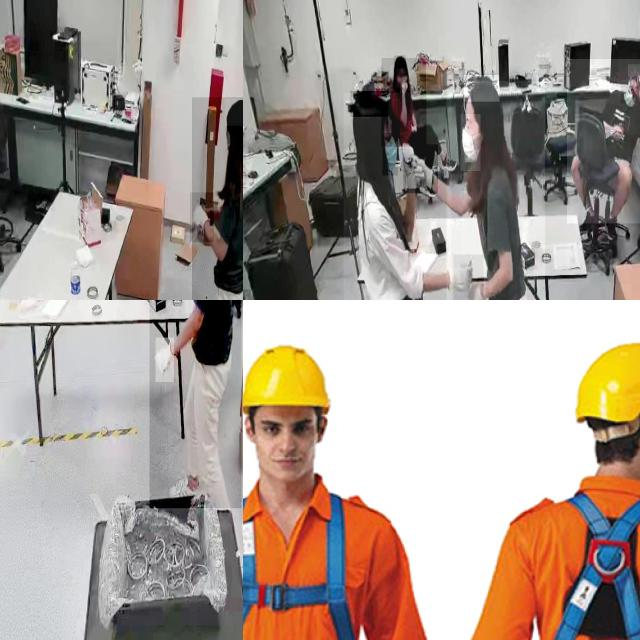Harness: (243, 492, 364, 640), (536, 491, 640, 640)
face_mask: (460, 114, 480, 171), (382, 133, 398, 175), (620, 85, 638, 104)
face_nomask: (396, 69, 406, 88)
hand_glove: (404, 144, 438, 193), (453, 254, 484, 300), (190, 192, 214, 242), (156, 337, 174, 383)
hand_noglove: (611, 123, 623, 140), (400, 78, 408, 94), (637, 72, 640, 98)
head_nohelmet: (351, 91, 389, 118), (464, 75, 500, 103), (225, 99, 243, 126), (627, 64, 640, 77), (394, 56, 406, 66)
person: (343, 92, 452, 300), (446, 81, 545, 300), (149, 300, 242, 509), (566, 58, 640, 224), (192, 97, 243, 300), (382, 58, 426, 147)
